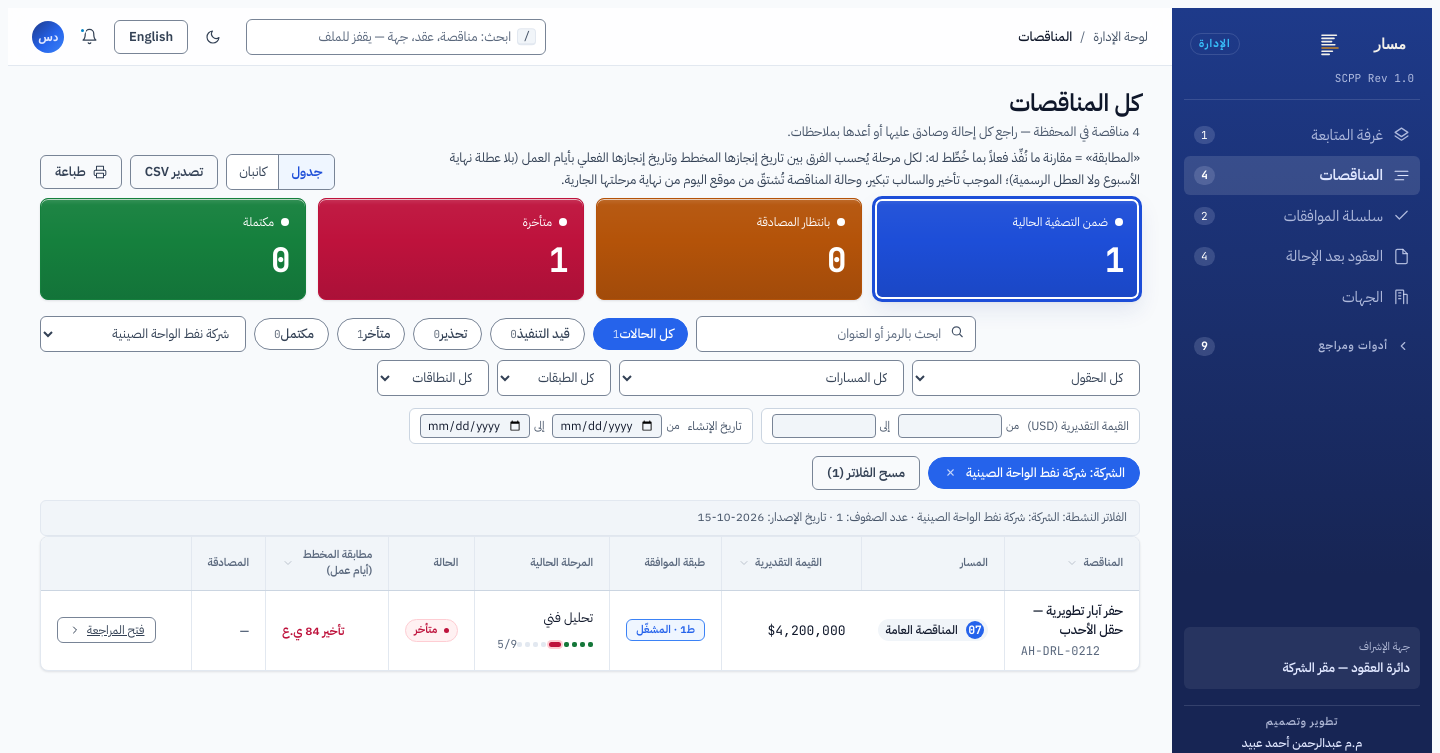
the per-company bars (request 1) › lands the row link on the tenders registry narrowed to that company, with a removable chip
expect the text "AH-DRL-0212" is shown: met, box [1021, 643, 1100, 659]
expect the text "BD-MNT-0098" is not shown: met
Click the button named "أزل المرشّح: الشركة: شركة نفط الواحة الصينية".
click(951, 473)  # box [943, 465, 959, 481]
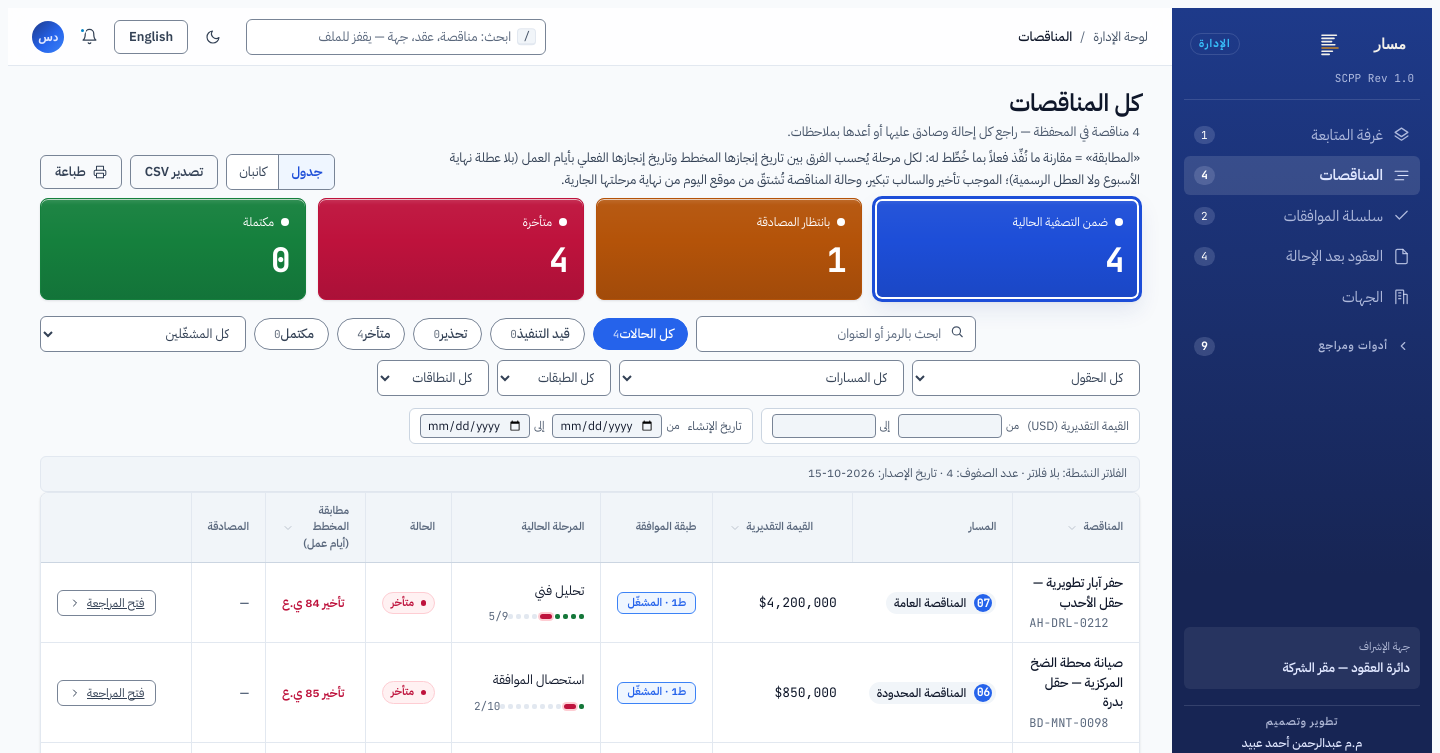
expect the text "BD-MNT-0098" is shown: met, box [1029, 715, 1108, 731]
